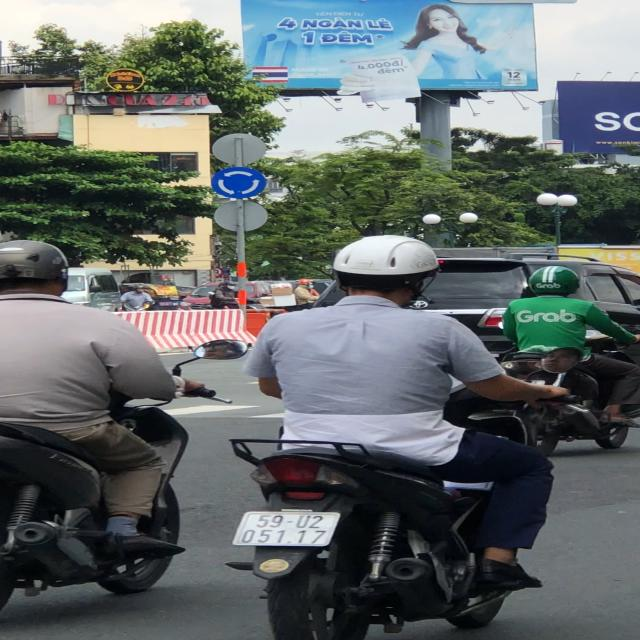Bien bao noi giao nhau chay theo vong xuyen: (204, 160, 274, 200)
